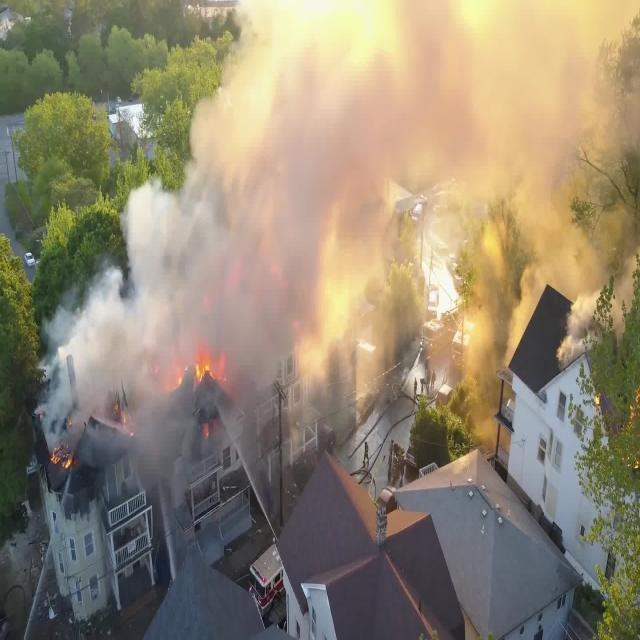Fire: (174, 340, 238, 410), (44, 438, 85, 499)
Smoke: (222, 10, 640, 221), (94, 138, 594, 302)
